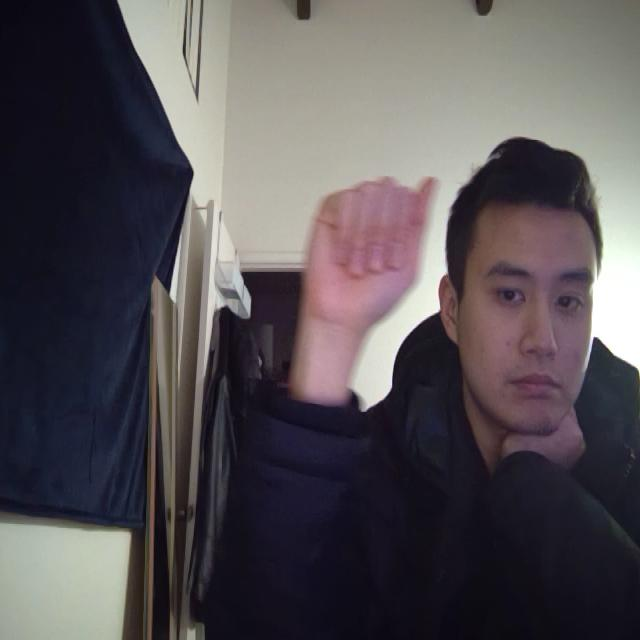A: (292, 150, 435, 337)
